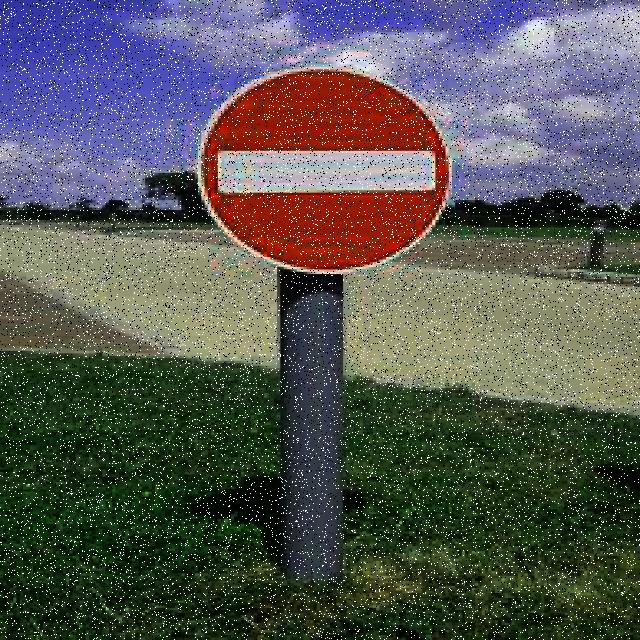no entry: (202, 69, 446, 267)
